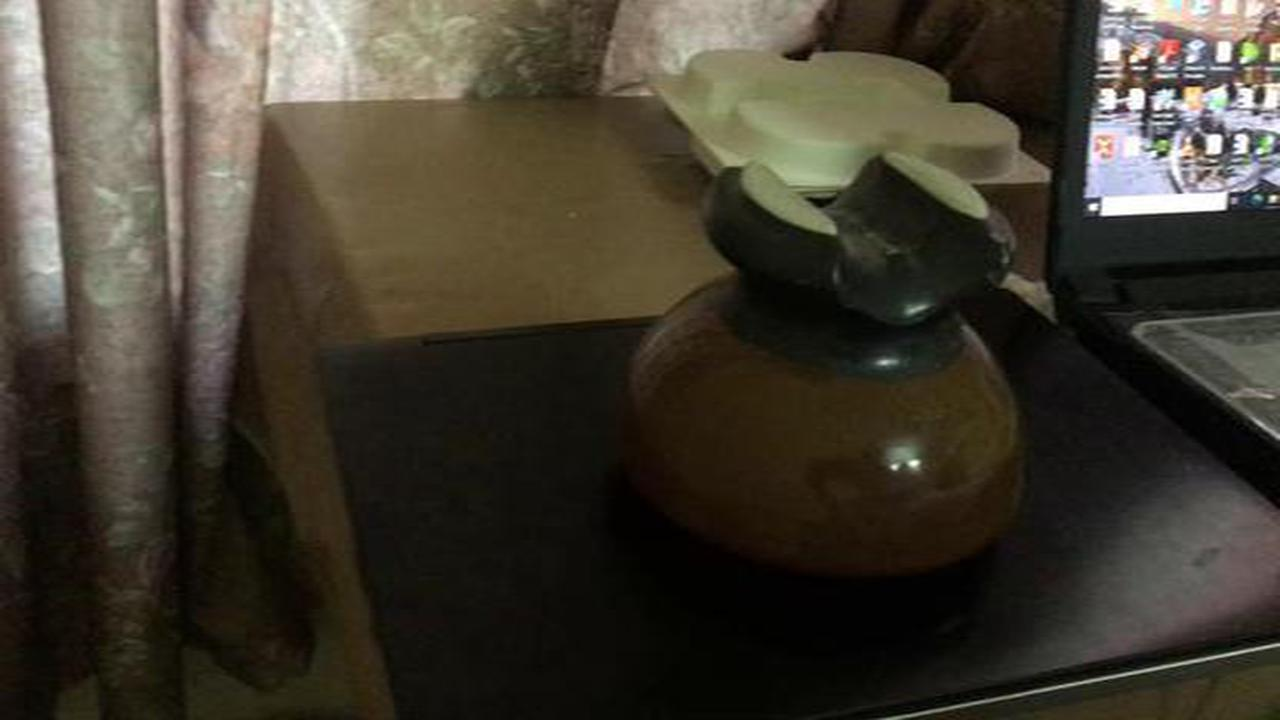insulator_pin: (594, 135, 1071, 598)
